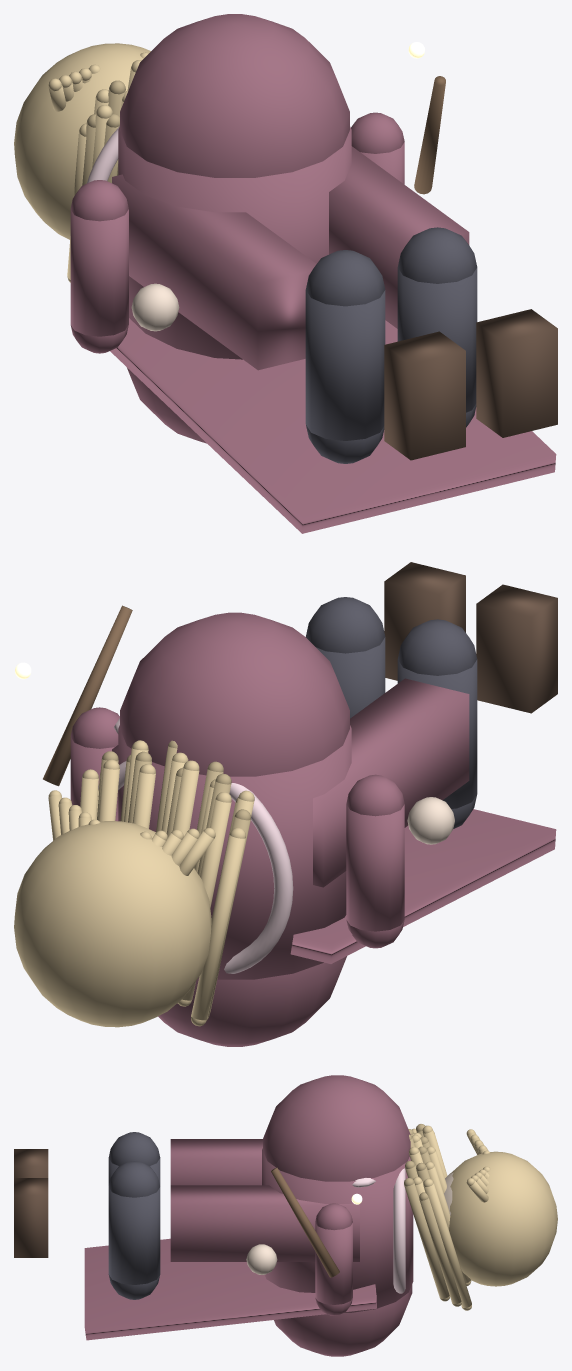
File: lavender.glb
3 renders of one model, top to bottom at view 1: azimuth 30°, elevation 25°; view 2: azimuth 150°, elevation 25°; view 3: azimuth 270°, elevation 25°, orthographic. The views are drawn at different scales.
Visible parts, largest first — view 1: cloak, torso_top, robe_panel_l, torso_body, thigh_body, crown, boot, boot.001, robe_panel_r, upperL_body, thigh_body.001, thigh_top.001 (+10 smaller); view 2: crown, torso_top, torso_body, robe_panel_l, cloak, boot, torso_bot, upperL_body, boot.001, trim, thigh_top, thigh_top.001 (+15 smaller); view 3: cloak, torso_top, crown, robe_panel_r, torso_body, thigh_body.001, torso_bot, robe_panel_l, boot.001, upperR_body, trim, thigh_top.001 (+10 smaller).
Part boxes in pixels (x1,y1,x2,y2): cloak: (110, 318, 556, 533); torso_top: (120, 14, 349, 177); robe_panel_l: (112, 174, 316, 370); torso_body: (118, 126, 351, 359); thigh_body: (305, 290, 385, 440); crown: (14, 43, 150, 239); boot: (384, 331, 465, 460); boot.001: (476, 309, 557, 437); robe_panel_r: (329, 146, 469, 328); upperL_body: (70, 209, 128, 336); thigh_body.001: (397, 267, 477, 412); thigh_top.001: (398, 227, 477, 283); crown: (14, 821, 211, 1027); torso_top: (120, 612, 349, 776); torso_body: (118, 725, 351, 979); robe_panel_l: (313, 678, 469, 887); cloak: (290, 809, 556, 963); boot: (476, 584, 557, 713); torso_bot: (158, 956, 346, 1046); upperL_body: (346, 804, 404, 931); boot.001: (384, 562, 465, 680); trim: (98, 761, 293, 973); thigh_top: (398, 619, 477, 675); thigh_top.001: (306, 597, 385, 653); cloak: (84, 1238, 376, 1340); torso_top: (263, 1075, 410, 1181); crown: (449, 1151, 557, 1286); robe_panel_r: (170, 1185, 359, 1261); torso_body: (262, 1148, 413, 1312); thigh_body.001: (108, 1187, 160, 1284); torso_bot: (274, 1284, 412, 1356); robe_panel_l: (170, 1139, 262, 1185); boot.001: (14, 1178, 48, 1257); upperR_body: (315, 1223, 352, 1304); trim: (393, 1168, 405, 1293); thigh_top.001: (108, 1161, 160, 1197).
Size of the model in its own units: 0.7987 by 0.86 by 1.58.
